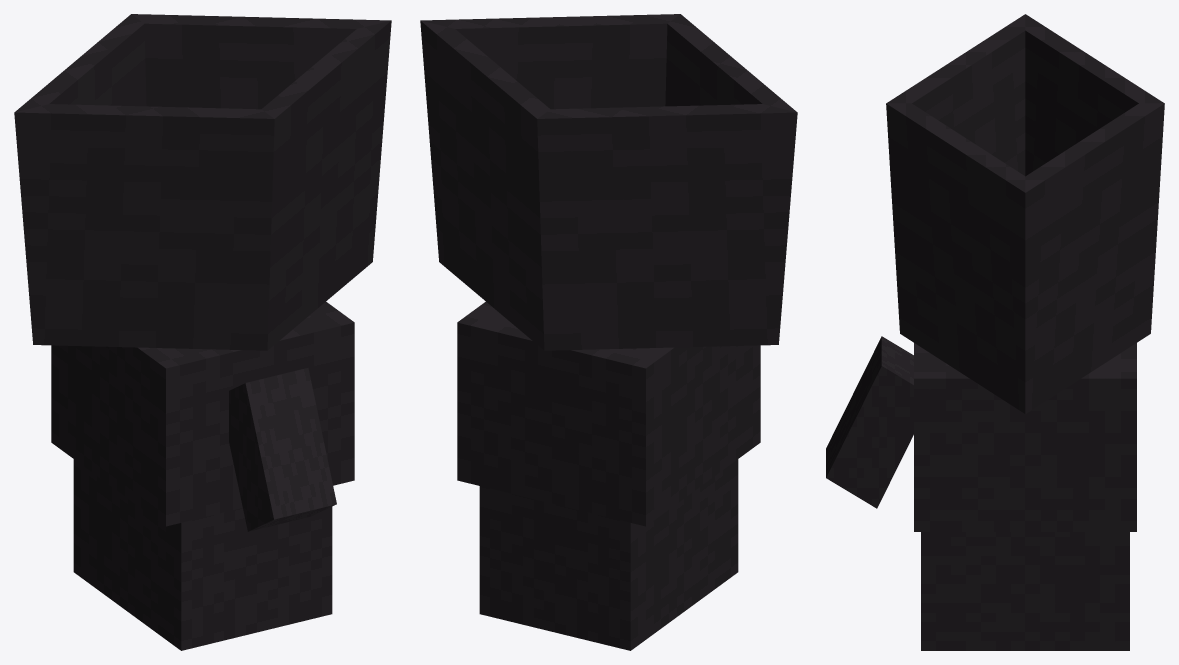
Rendered from culto.glb.
3 renders of one model, left to right at view 1: azimuth 30°, elevation 25°; view 2: azimuth 150°, elevation 25°; view 3: azimuth 270°, elevation 25°, orthographic. The views are drawn at different scales.
Parts seen in each view (by area): view 1: puno, palma, dedos, pulgar; view 2: puno, palma, dedos; view 3: puno, palma, dedos, pulgar.
Part boxes in pixels (left/top/right/bottom): puno: left=14, top=14, right=391, bottom=350; palma: left=51, top=301, right=354, bottom=526; dedos: left=73, top=459, right=332, bottom=650; pulgar: left=229, top=368, right=336, bottom=531; puno: left=420, top=14, right=797, bottom=350; palma: left=457, top=301, right=760, bottom=526; dedos: left=479, top=459, right=738, bottom=650; puno: left=886, top=14, right=1164, bottom=413; palma: left=914, top=343, right=1136, bottom=531; dedos: left=921, top=532, right=1129, bottom=650; pulgar: left=826, top=336, right=913, bottom=508.
Size of the model in its own units: 0.15 by 0.2 by 0.12.
Materials: 1 (1 with a texture image).
